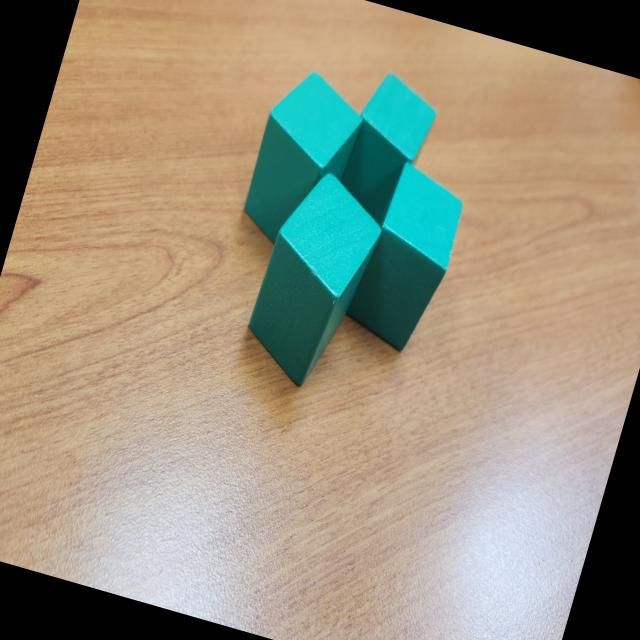green: (235, 161, 394, 397), (231, 61, 373, 264), (338, 156, 472, 358), (329, 66, 444, 237)
